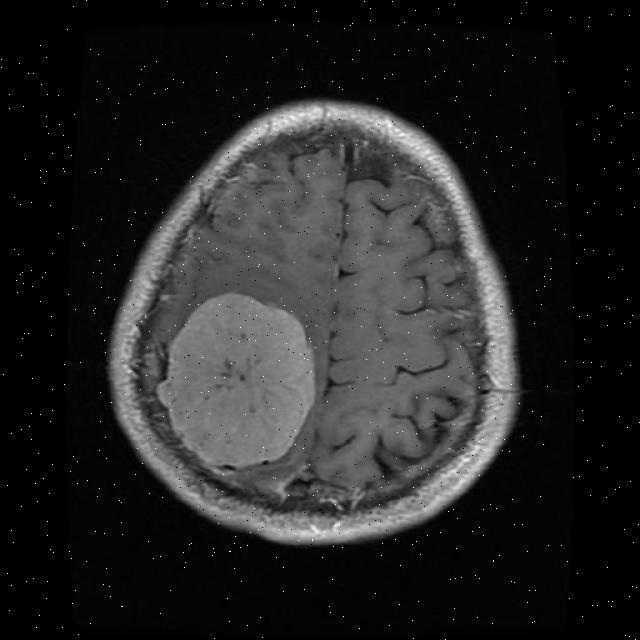Meningioma: (158, 294, 314, 469)
